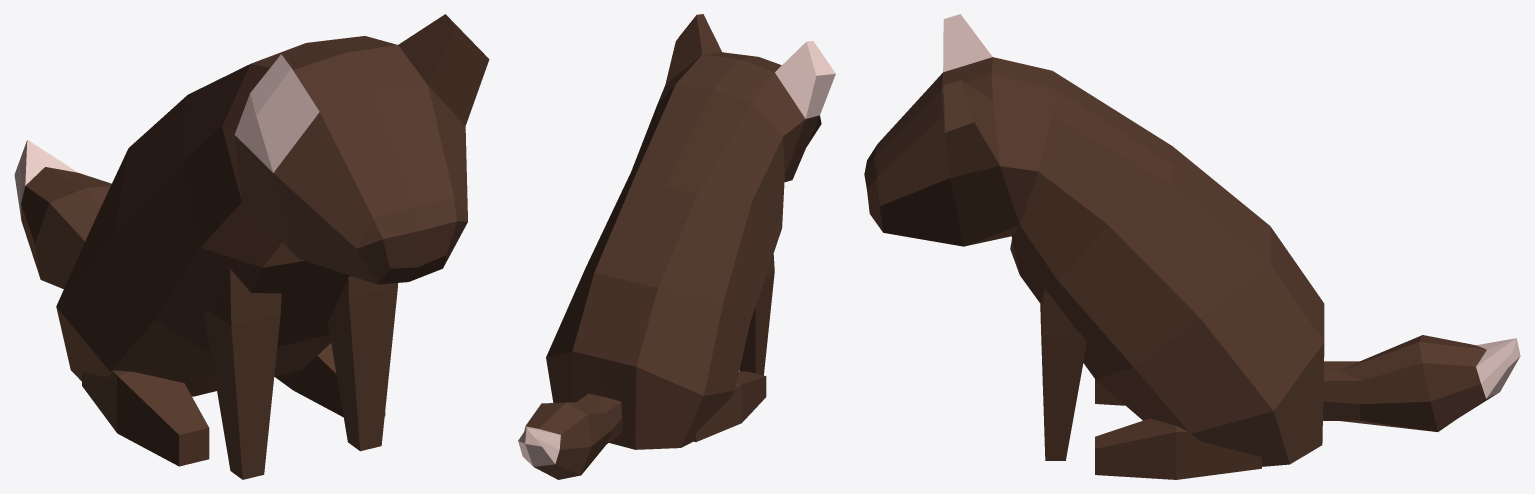
The model's file is koira.glb.
The picture shows the model from 3 angles, left to right: view 1: azimuth 30°, elevation 25°; view 2: azimuth 150°, elevation 25°; view 3: azimuth 270°, elevation 25°; orthographic projection. The views are drawn at different scales.
Parts seen in each view (by area): view 1: Cube.001; view 2: Cube.001; view 3: Cube.001.
Boxes of the visible parts, x1,y1,x2,y2 form: Cube.001: [14, 14, 489, 479]; Cube.001: [518, 14, 835, 479]; Cube.001: [864, 14, 1520, 479].
Bounding box in the file's own units: 0.4969 × 0.9398 × 1.45.
